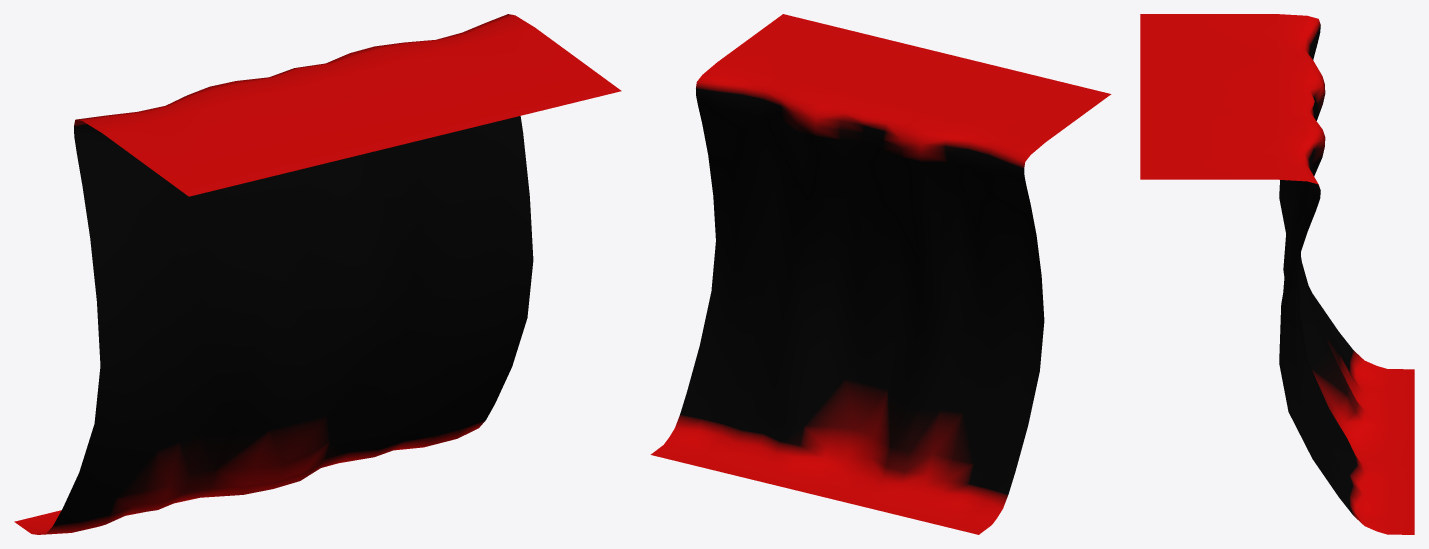
The model's file is GroundCliff01A 2M Background.fbx.
3 views of the same model, side by side, from view 1: azimuth 30°, elevation 25°; view 2: azimuth 150°, elevation 25°; view 3: azimuth 270°, elevation 25° (orthographic). The views are drawn at different scales.
Parts seen in each view (by area): view 1: GroundCliff01A 2M Background; view 2: GroundCliff01A 2M Background; view 3: GroundCliff01A 2M Background.
Part boxes in pixels (bbox=[...]): GroundCliff01A 2M Background: bbox=[14, 14, 621, 534]; GroundCliff01A 2M Background: bbox=[650, 14, 1111, 534]; GroundCliff01A 2M Background: bbox=[1140, 14, 1414, 534].
Bounding box in the file's own units: 2 × 2 × 1.4.
